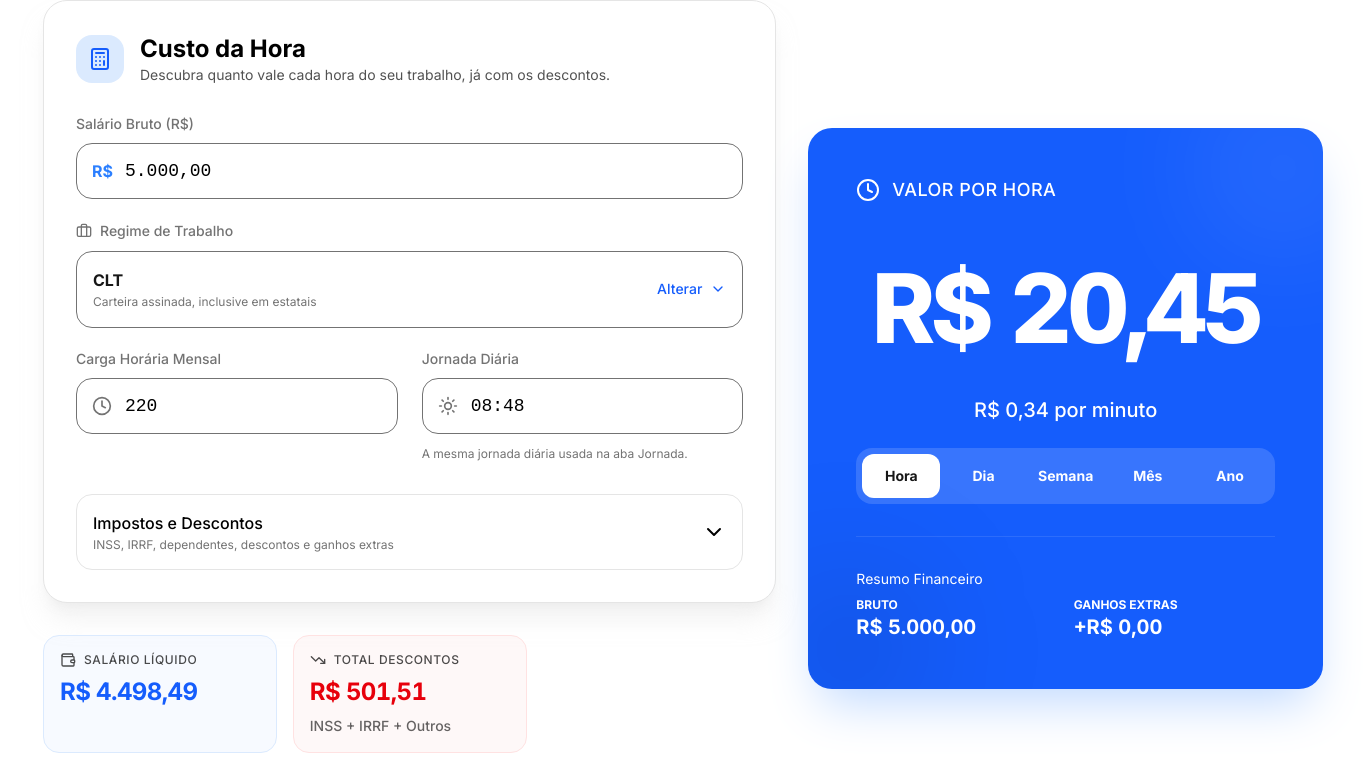
Scenario: SalaryCalculator › derives each period from the monthly net and the daily journey
Click the radio button labelled "Dia": click(984, 476) top-left (972, 467), bottom-right (994, 484)
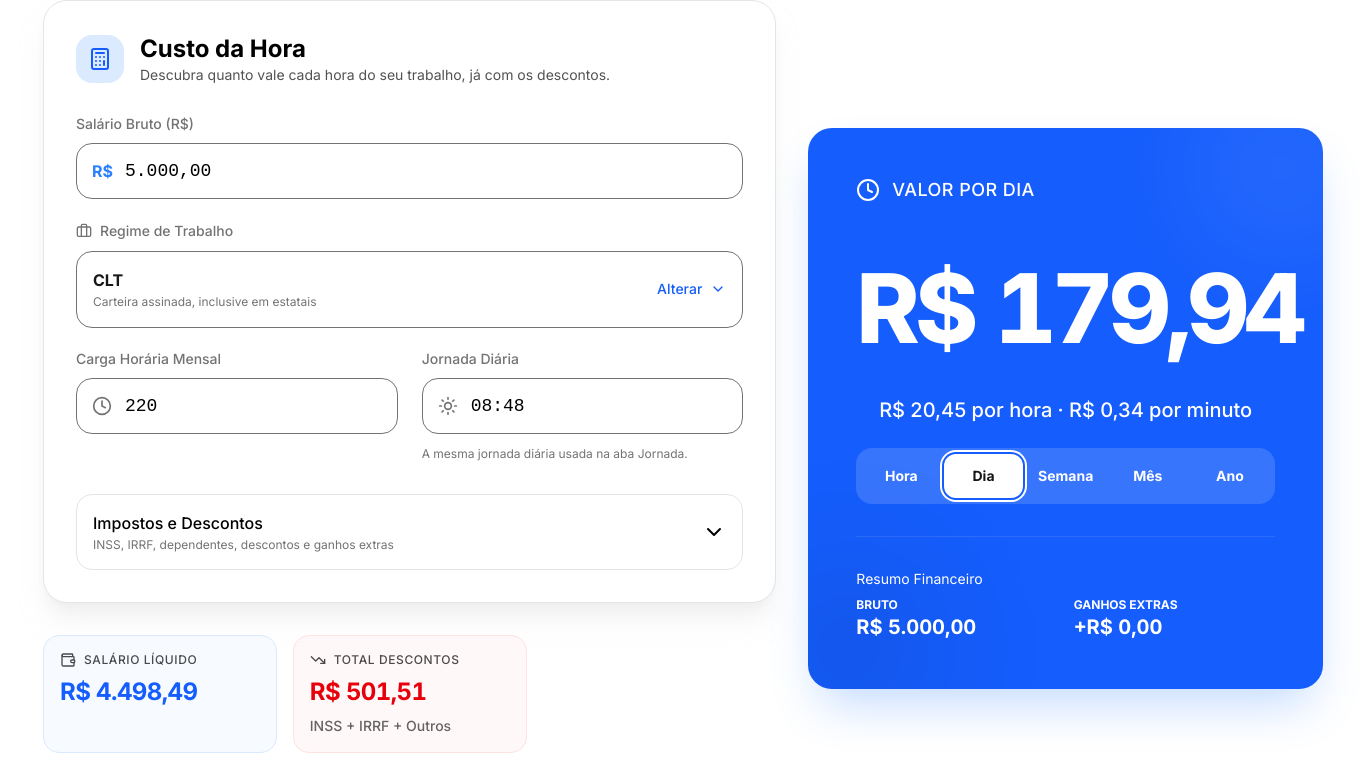
Check: the text "R$ 179,94" is shown, box top-left (856, 236), bottom-right (1275, 380)
In the field labelled "Jornada Diária": (583, 406) top-left (422, 378), bottom-right (743, 434), type "0600"
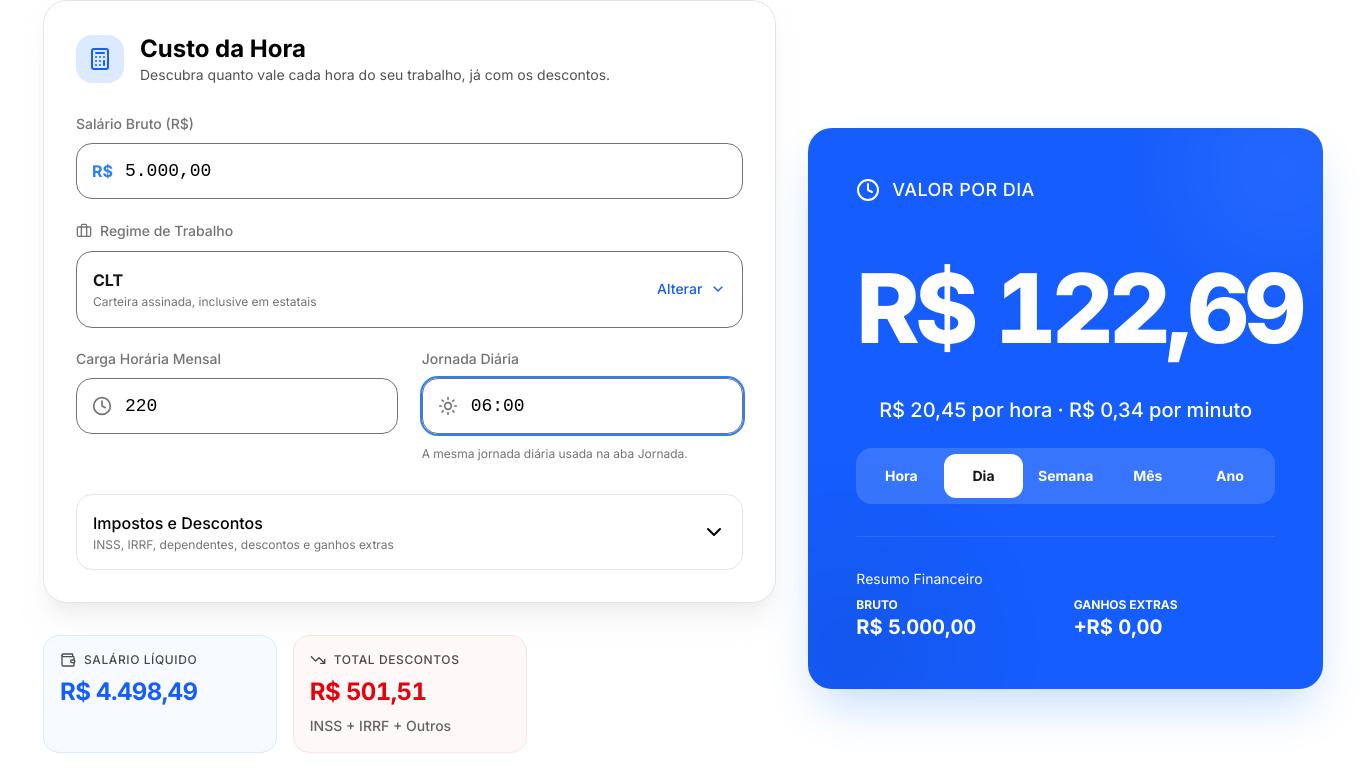
Check: the text "R$ 122,69" is shown, box top-left (856, 236), bottom-right (1275, 380)
